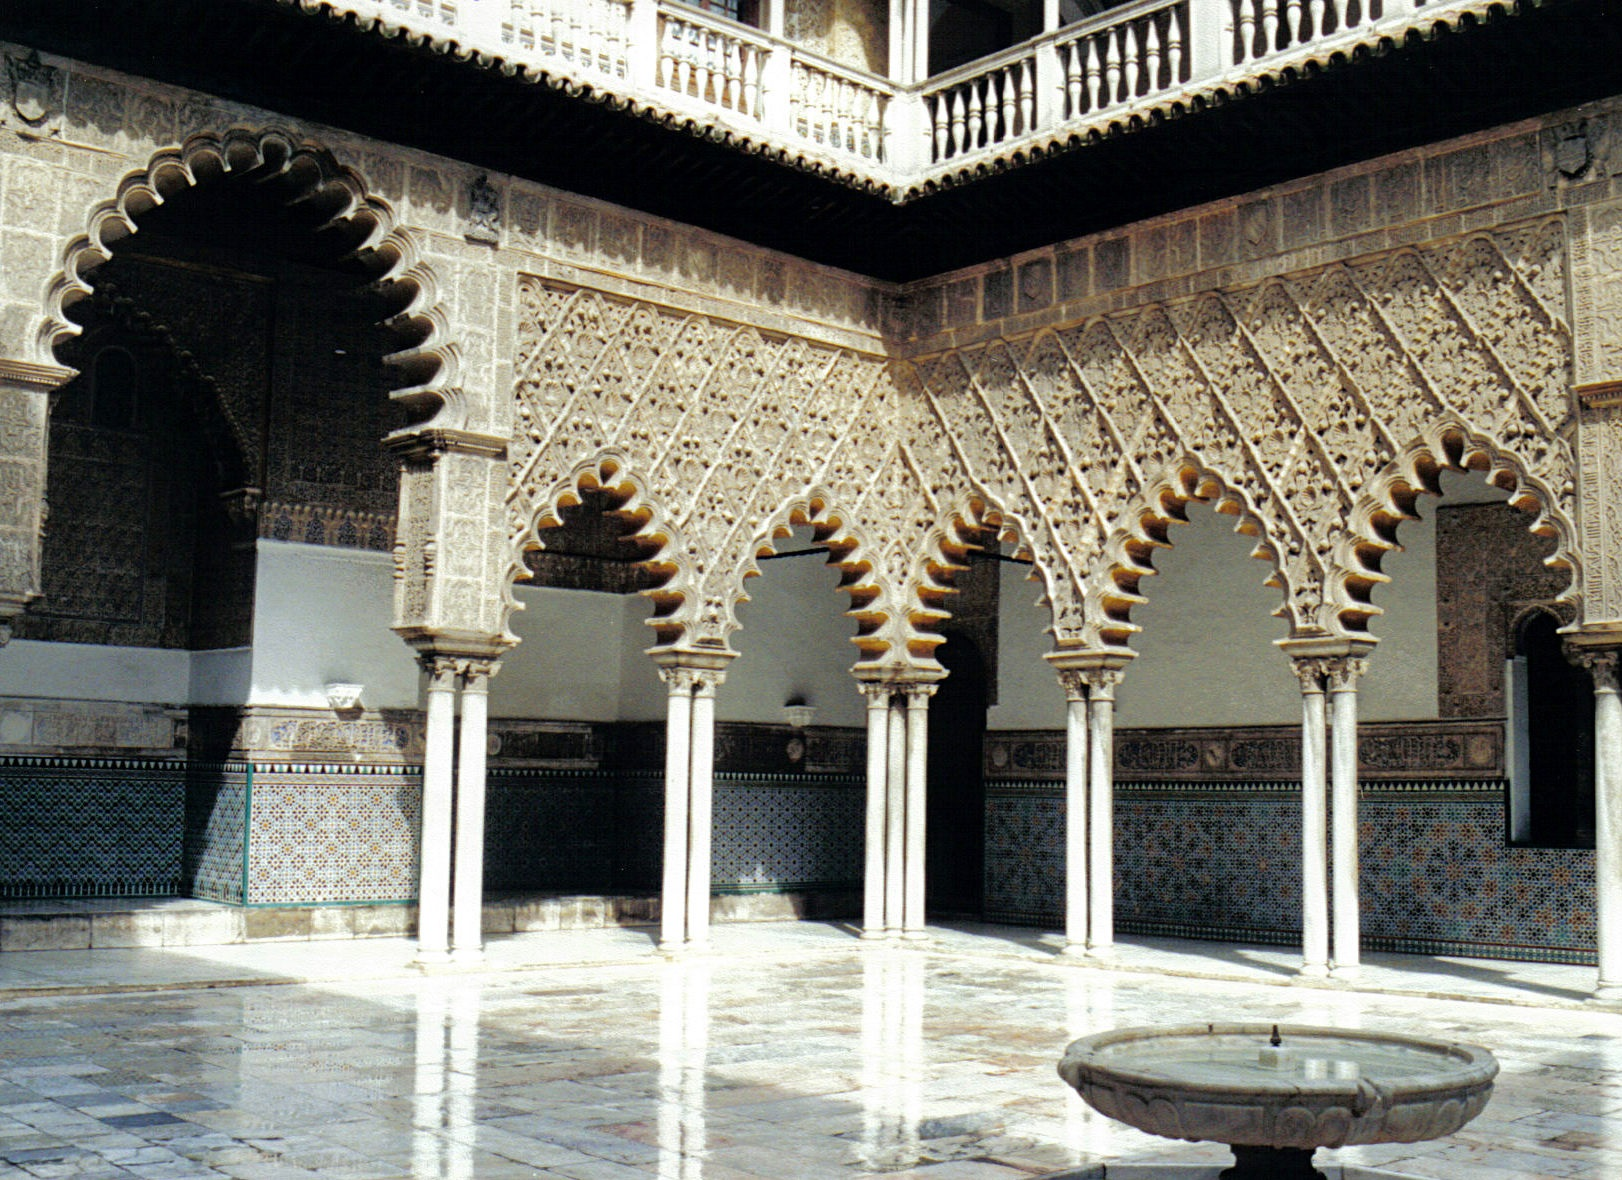arco-lobulado: (37, 120, 468, 442), (1334, 416, 1606, 672), (1089, 453, 1324, 690), (479, 447, 700, 672), (701, 471, 897, 699), (894, 481, 1087, 699)
